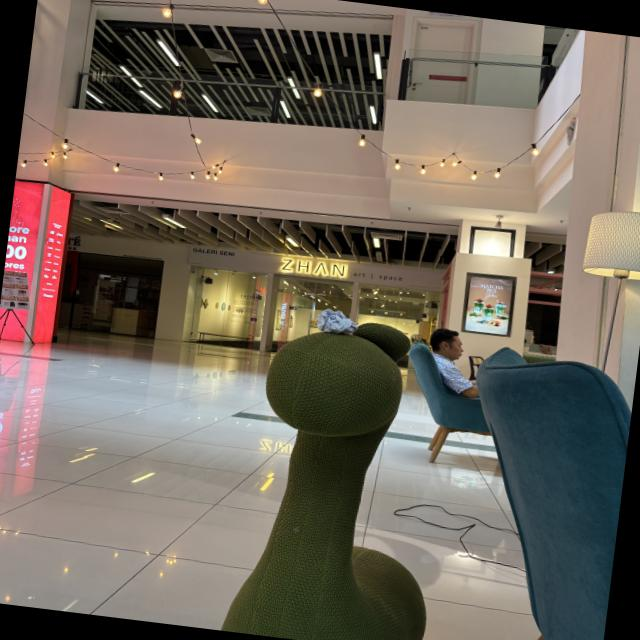crumpled_paper: (314, 306, 359, 336)
